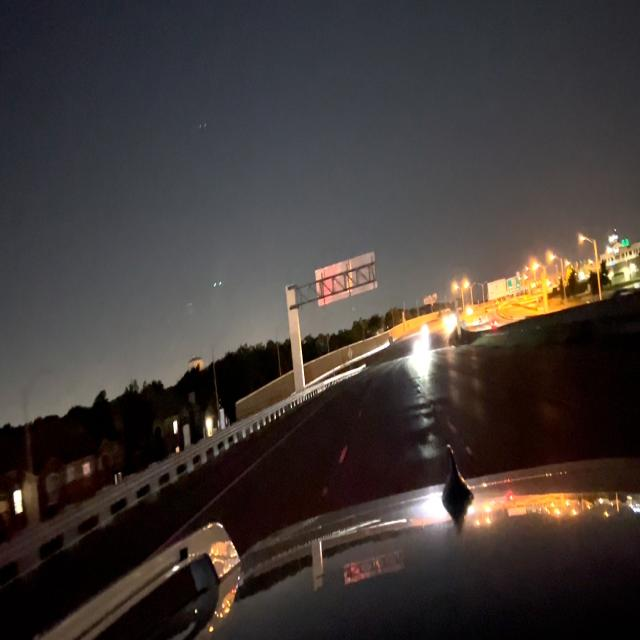back-of-sign: (315, 254, 379, 307)
